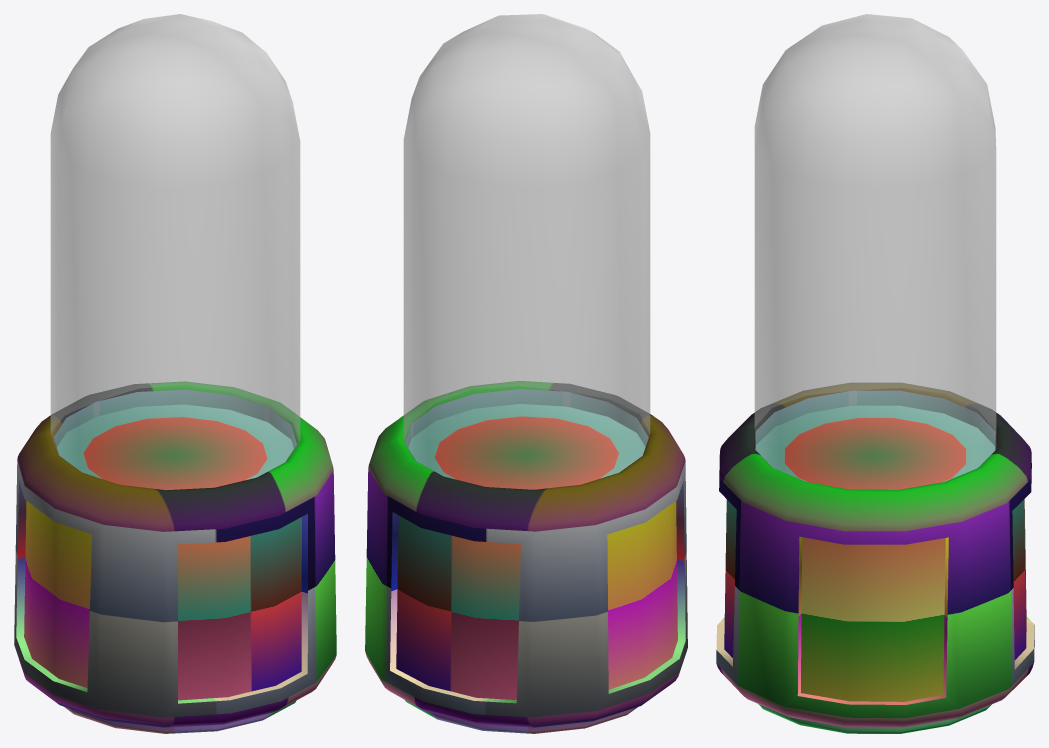
File: Flora Sample Container_1.fbx
3 views of the same model, side by side, from view 1: azimuth 30°, elevation 25°; view 2: azimuth 150°, elevation 25°; view 3: azimuth 270°, elevation 25° (orthographic).
Visible parts, largest first — view 1: C1; view 2: C1; view 3: C1.
Boxes of the visible parts, x1,y1,x2,y2 form: C1: (14,14,336,733); C1: (365,14,687,733); C1: (716,14,1034,733).
Size of the model in its own units: 317 by 714 by 316.
Materials: 2 (1 with a texture image).
